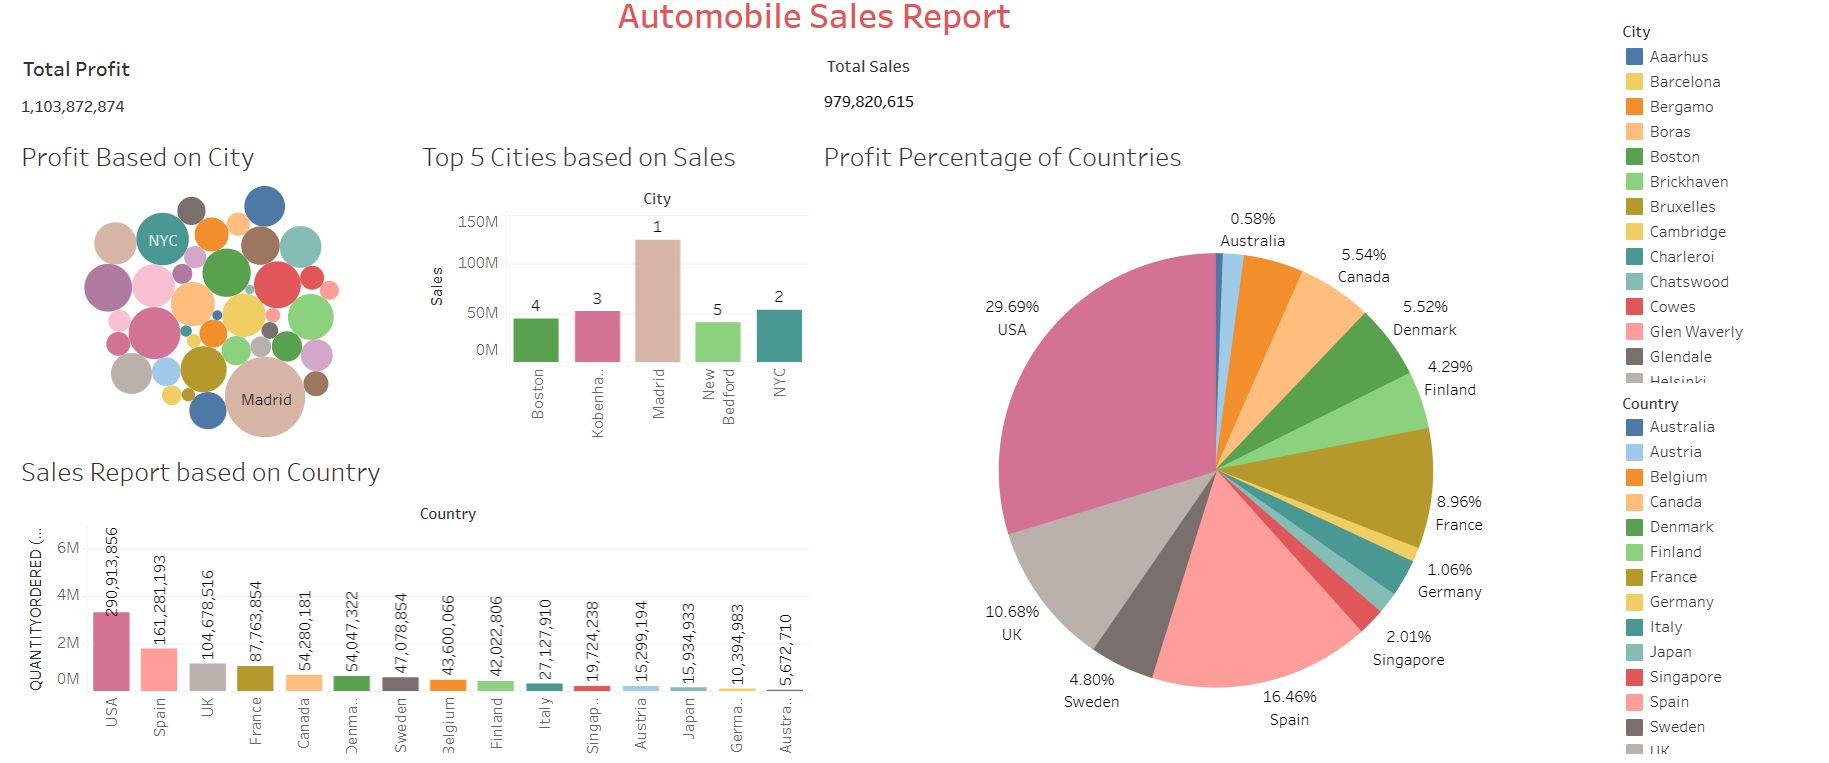

The page's visual inventory and layout, read from the dashboard file:
{"tool":"tableau","page":{"name":"Dashboard 2","canvas":[1000,1000],"units":"permille","ordinal":1},"visuals":[{"type":"title","box":[4.8,9.3,895.8,48.8]},{"type":"legend","title":"Sheet 7","param":"[federated.0gb8rrm11orbsf15m7up0079jvam].[sum:Profit:qk]","box":[900.7,9.3,94.5,27.9]},{"type":"legend","title":"Sheet 7","param":"[federated.0gb8rrm11orbsf15m7up0079jvam].[none:CITY:nk]","box":[900.7,37.2,94.5,552.9]},{"type":"worksheet","title":"Sheet 5","mark":"Automatic","box":[4.8,58.1,447.9,111.5]},{"type":"worksheet","title":"Sheet 12","mark":"Automatic","box":[452.7,58.1,447.9,111.5]},{"type":"worksheet","title":"Sheet 7","mark":"Circle","box":[4.8,169.6,223.9,409.2]},{"type":"worksheet","title":"Sheet 13","mark":"Automatic","rows":["SALES"],"cols":["CITY"],"box":[228.8,169.6,224,409.2]},{"type":"worksheet","title":"Sheet 11","mark":"Pie","box":[452.7,169.6,447.9,821.1]},{"type":"worksheet","title":"Sheet 9","mark":"Automatic","rows":["QUANTITYORDERED (Sheet3)"],"cols":["COUNTRY"],"box":[4.8,578.7,447.9,412]},{"type":"legend","title":"Sheet 9","param":"[federated.0gb8rrm11orbsf15m7up0079jvam].[none:COUNTRY:nk]","box":[900.7,590,94.5,400.7]}]}

Visuals, with their boxes on the dashboard's canvas, which has no fixed pixel size, in thousandths of its width and height (x1, y1, x2, y2). These are canvas units, not pixel positions in the 1829x763 screenshot, which may show the page scaled, cropped or inside an application window:
title: l=5, t=9, r=901, b=58
"Sheet 7" legend: l=901, t=9, r=995, b=37
"Sheet 7" legend: l=901, t=37, r=995, b=590
"Sheet 5" worksheet: l=5, t=58, r=453, b=170
"Sheet 12" worksheet: l=453, t=58, r=901, b=170
"Sheet 7" worksheet (Circle marks): l=5, t=170, r=229, b=579
"Sheet 13" worksheet: l=229, t=170, r=453, b=579
"Sheet 11" worksheet (Pie marks): l=453, t=170, r=901, b=991
"Sheet 9" worksheet: l=5, t=579, r=453, b=991
"Sheet 9" legend: l=901, t=590, r=995, b=991
